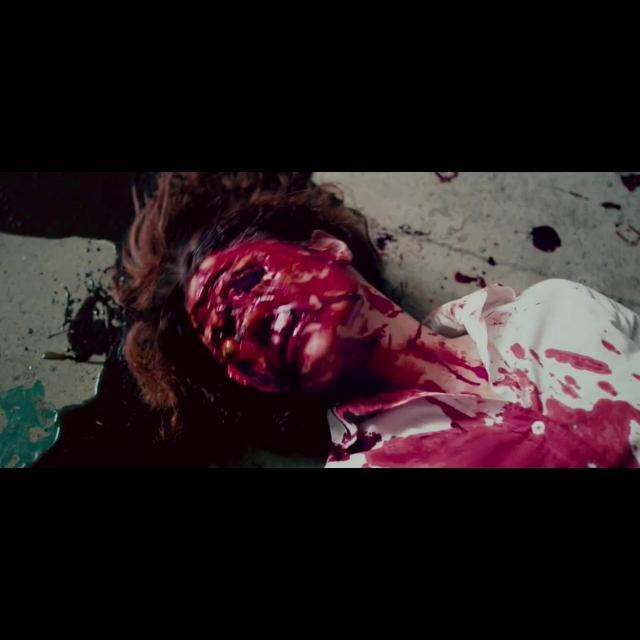blood: (182, 230, 640, 470), (32, 288, 181, 468), (0, 173, 155, 244), (185, 442, 262, 468), (600, 201, 640, 246), (528, 226, 564, 254), (612, 168, 640, 192), (429, 170, 463, 184), (376, 234, 396, 254)
